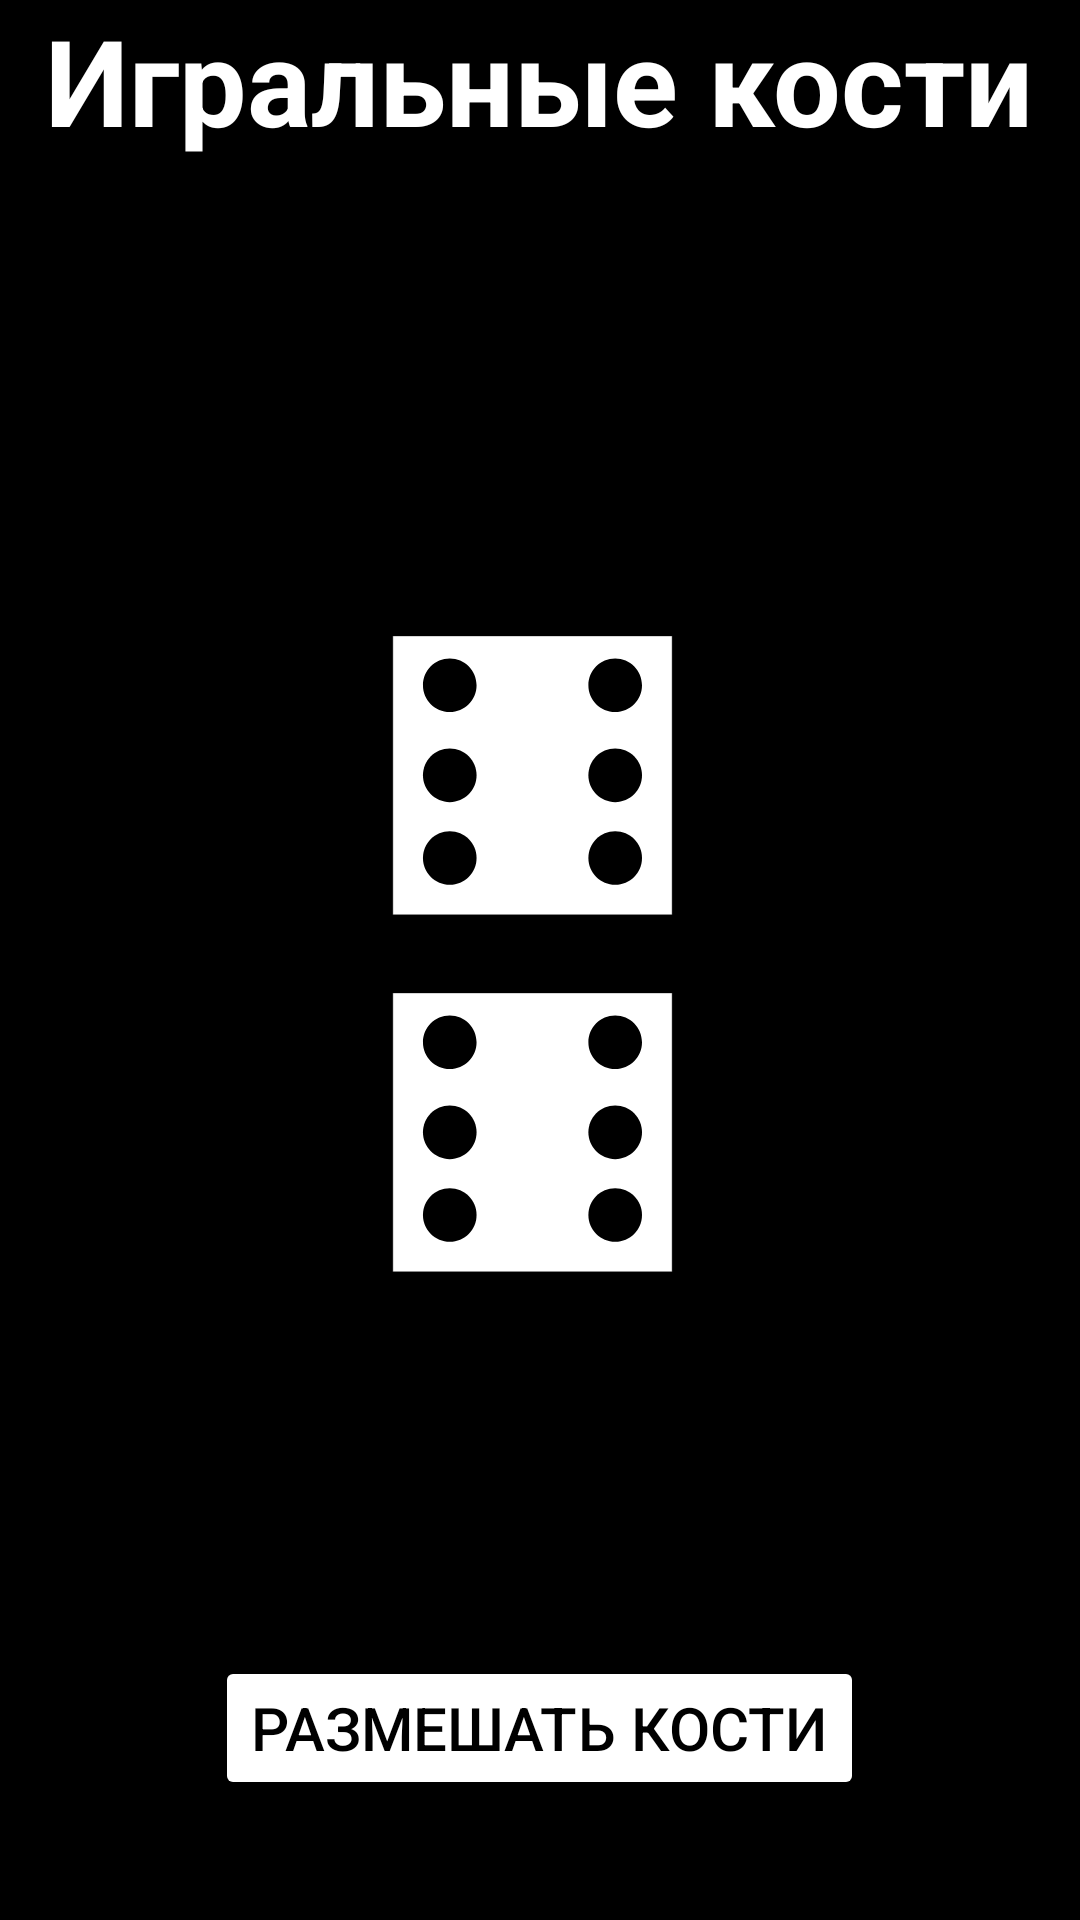

Icons on this 1080px×1920px Android screen, each with its box as (x1, y1, x2, y2):
dado: (392, 636, 672, 915), (392, 993, 672, 1272)
